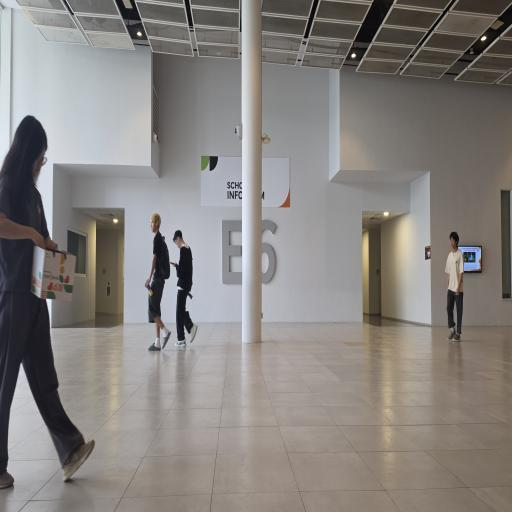person_left: (142, 194, 170, 362), (171, 220, 200, 348), (441, 226, 466, 344)
person_right: (0, 78, 91, 476)
